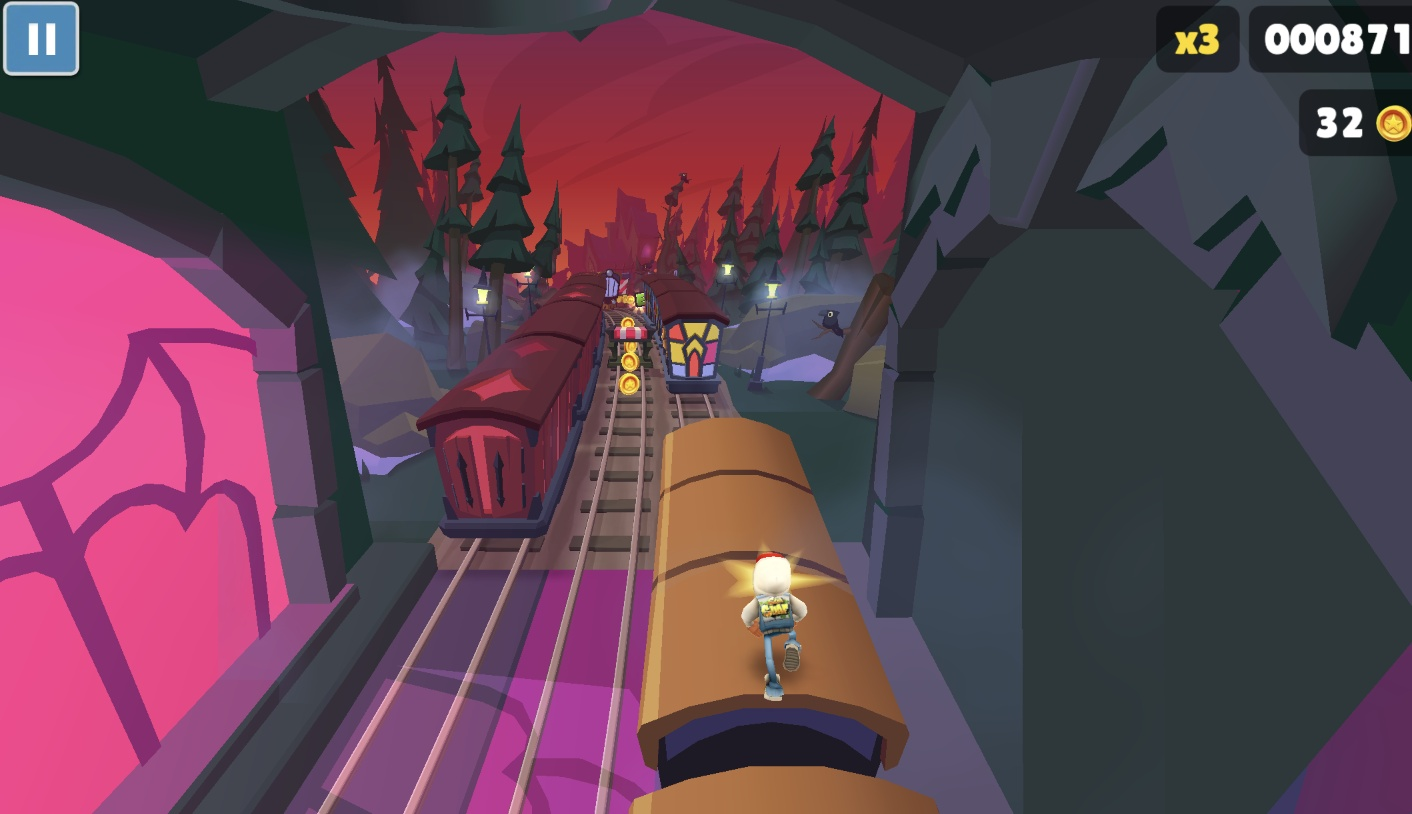ground_barrier: (608, 325, 651, 365)
overhead_barrier: (618, 272, 631, 296)
train: (633, 421, 932, 814), (412, 274, 609, 544), (641, 275, 731, 396), (603, 268, 627, 302)
